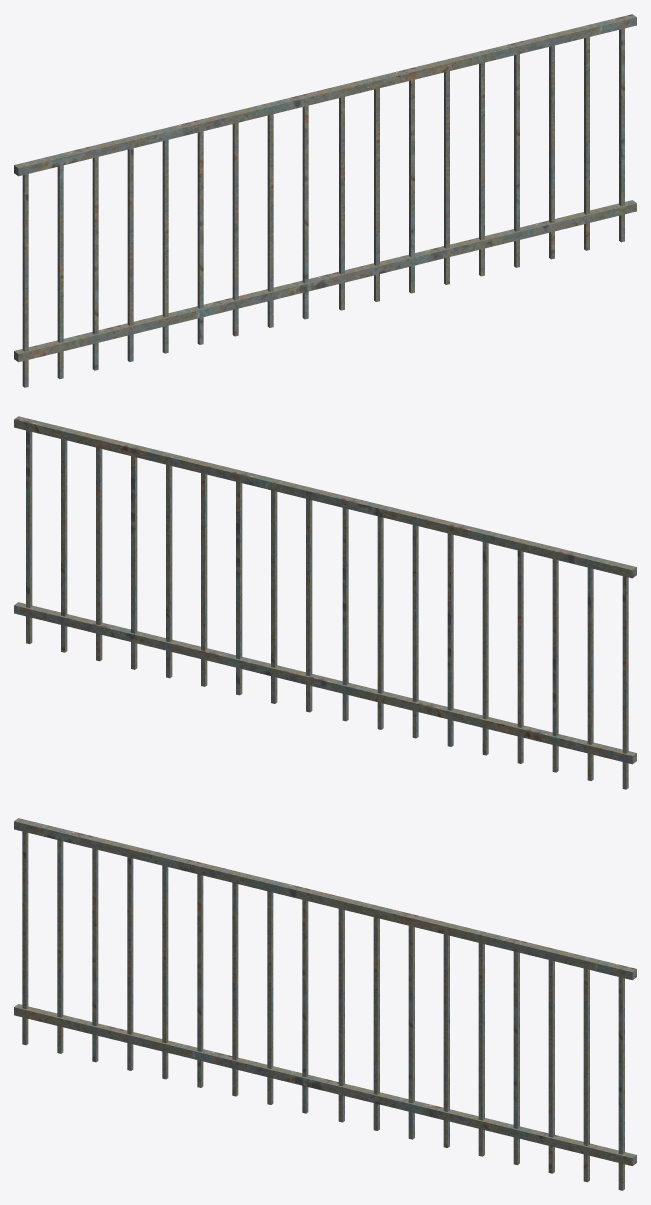
Rendered from fence14.FBX.
3 views of the same model, one above another, from view 1: azimuth 30°, elevation 25°; view 2: azimuth 150°, elevation 25°; view 3: azimuth 330°, elevation 25° (orthographic).
Visible parts, largest first — view 1: metal_fence_large_basic; view 2: metal_fence_large_basic; view 3: metal_fence_large_basic.
Part boxes in pixels (left/top/right/bottom): metal_fence_large_basic: left=14, top=14, right=636, bottom=387; metal_fence_large_basic: left=14, top=416, right=636, bottom=789; metal_fence_large_basic: left=14, top=818, right=636, bottom=1190.
Size of the model in its own units: 506 by 173 by 6.3.
